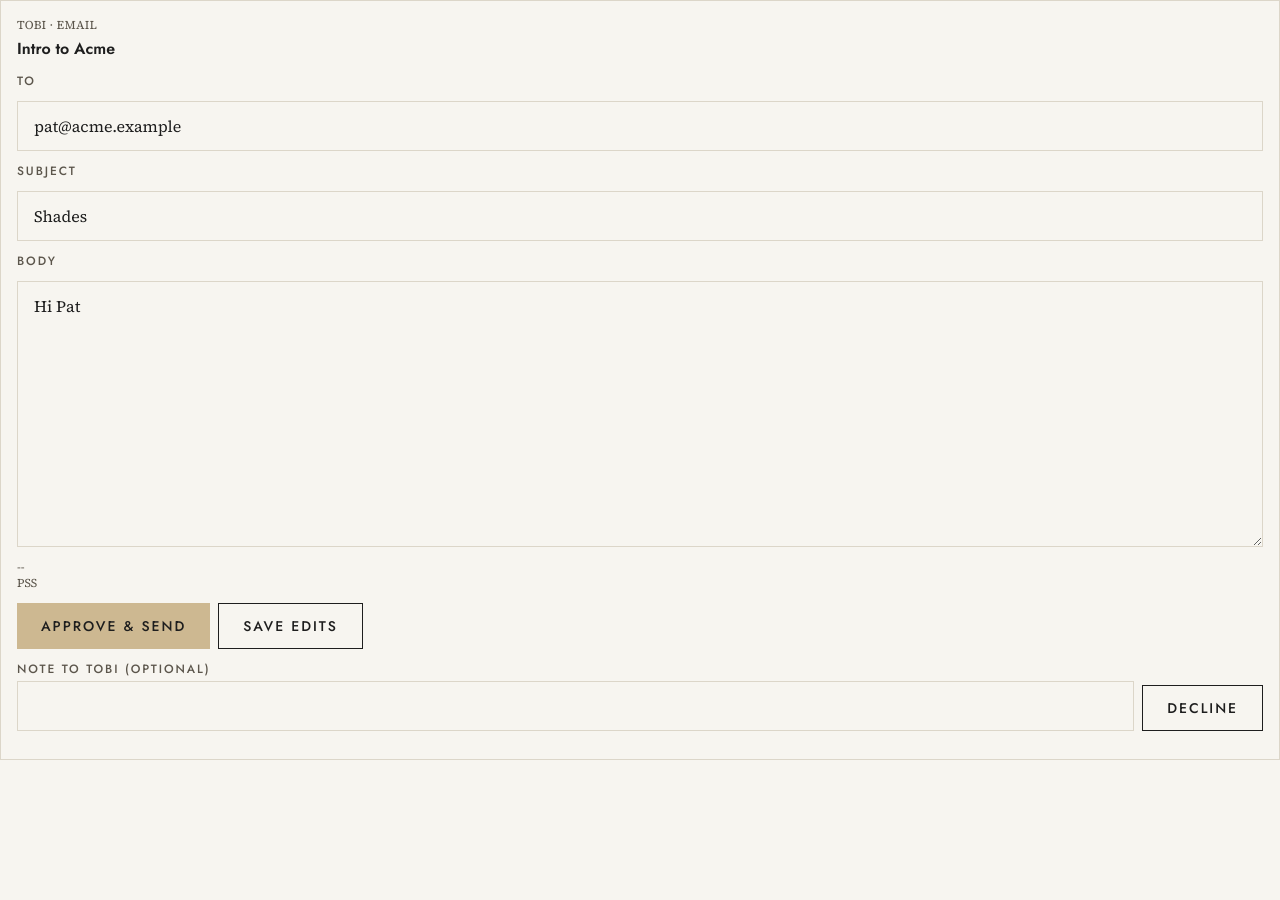
Test: EmailCard › clears a stale send error once a later save succeeds
Click the button "Approve & send": {"x": 114, "y": 626} x1=17 y1=603 x2=210 y2=649
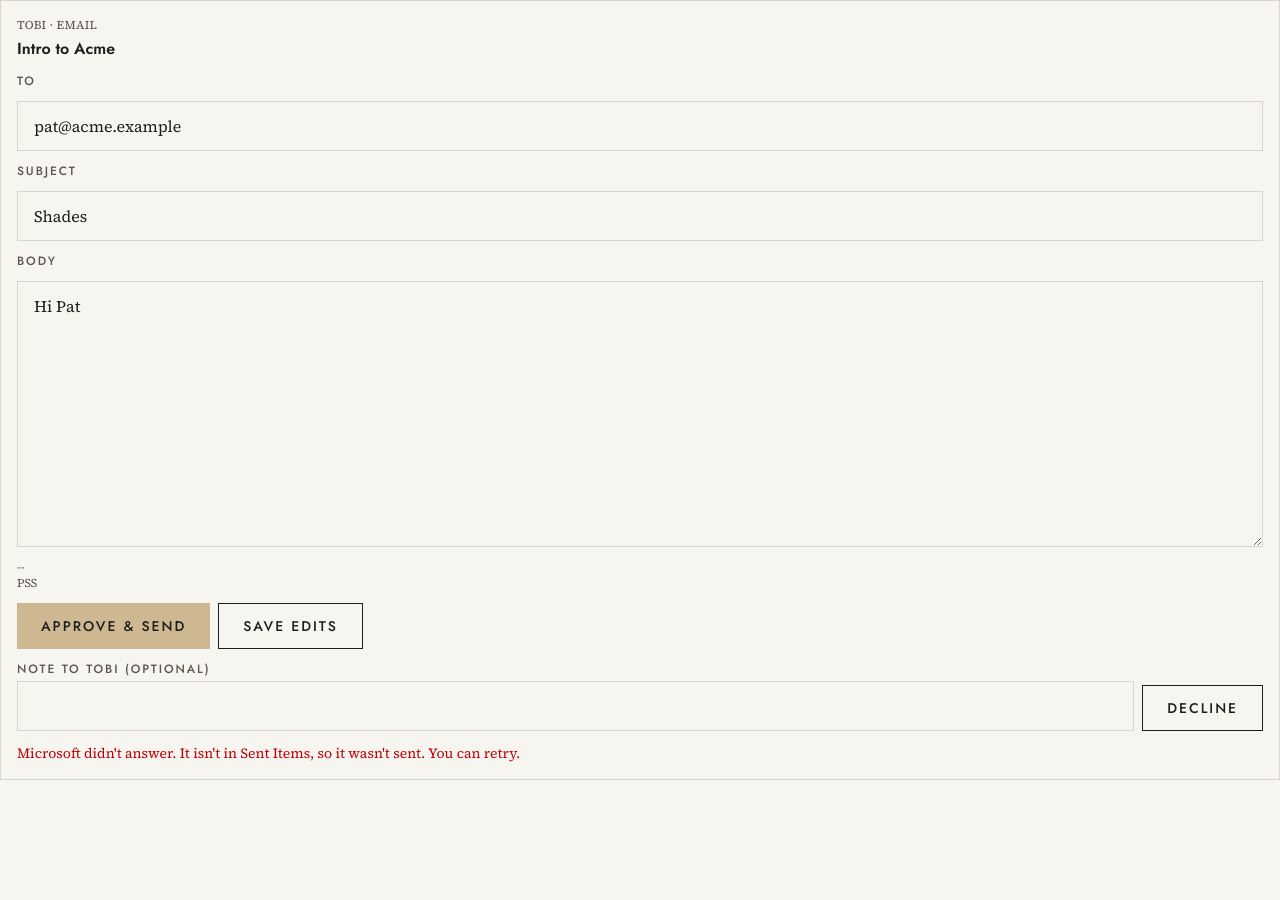
Now the text "It isn't in Sent Items" is shown, box x1=17 y1=743 x2=520 y2=763
Click the button "Save edits": {"x": 290, "y": 626} x1=218 y1=603 x2=363 y2=649
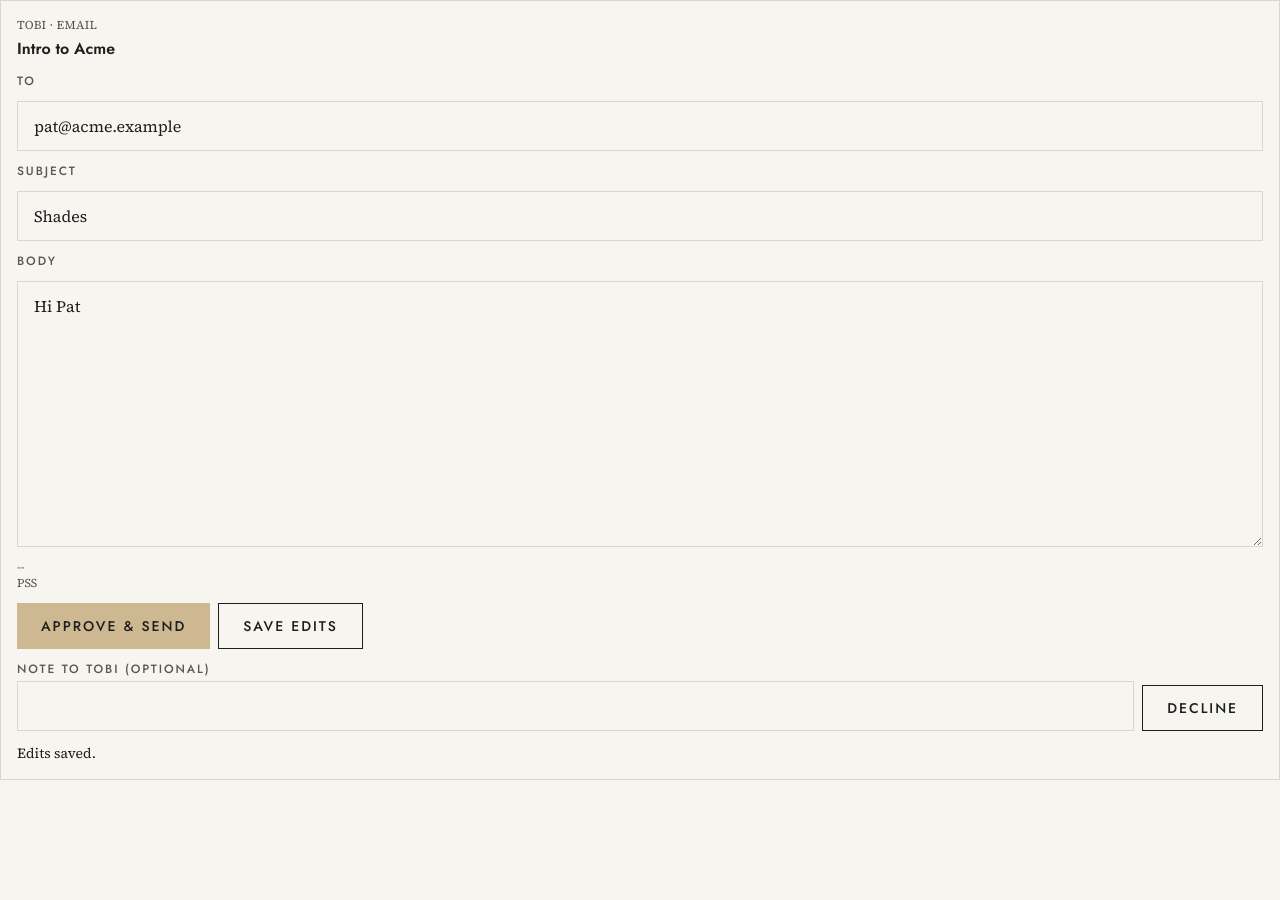
Now the text "Edits saved." is shown, box x1=17 y1=743 x2=96 y2=763
Now the text "It isn't in Sent Items" is gone
